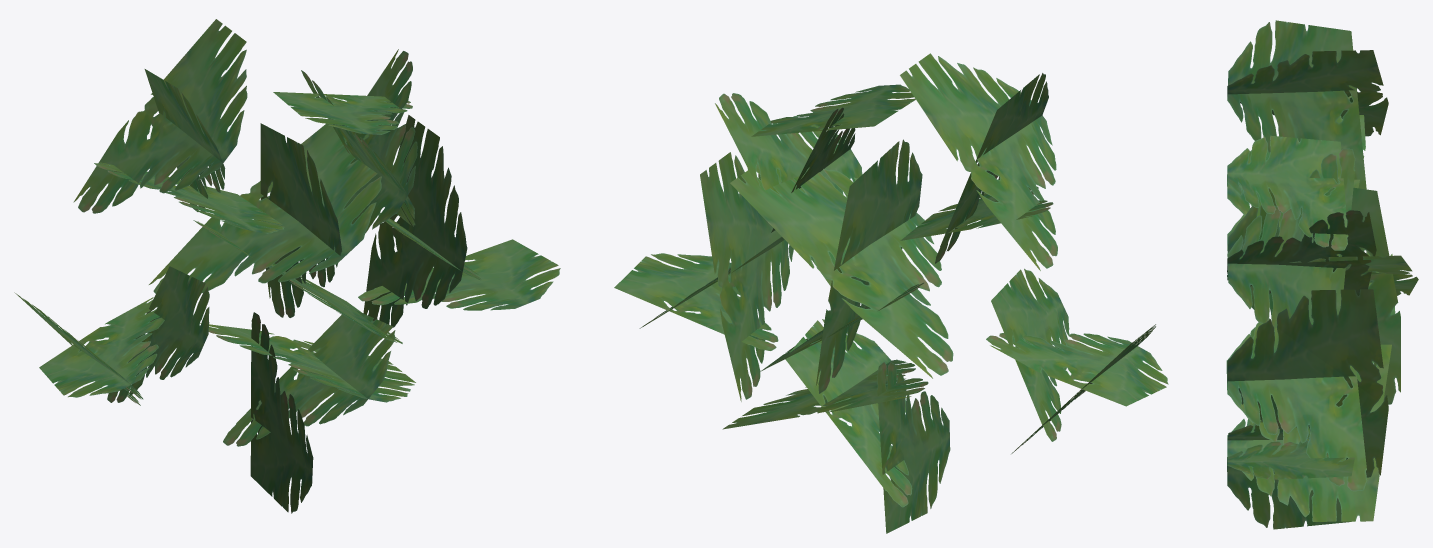
File: SM_Common_Grass_02.fbx
3 views of the same model, side by side, from view 1: azimuth 30°, elevation 25°; view 2: azimuth 150°, elevation 25°; view 3: azimuth 270°, elevation 25° (orthographic). The views are drawn at different scales.
Visible parts, largest first — view 1: SM_Common_Grass_02; view 2: SM_Common_Grass_02; view 3: SM_Common_Grass_02.
Part boxes in pixels (<box>): SM_Common_Grass_02: <box>14,19,560,513</box>; SM_Common_Grass_02: <box>614,53,1168,533</box>; SM_Common_Grass_02: <box>1226,20,1418,529</box>.
Bounding box in the file's own units: 63.52 × 55.69 × 21.09.
